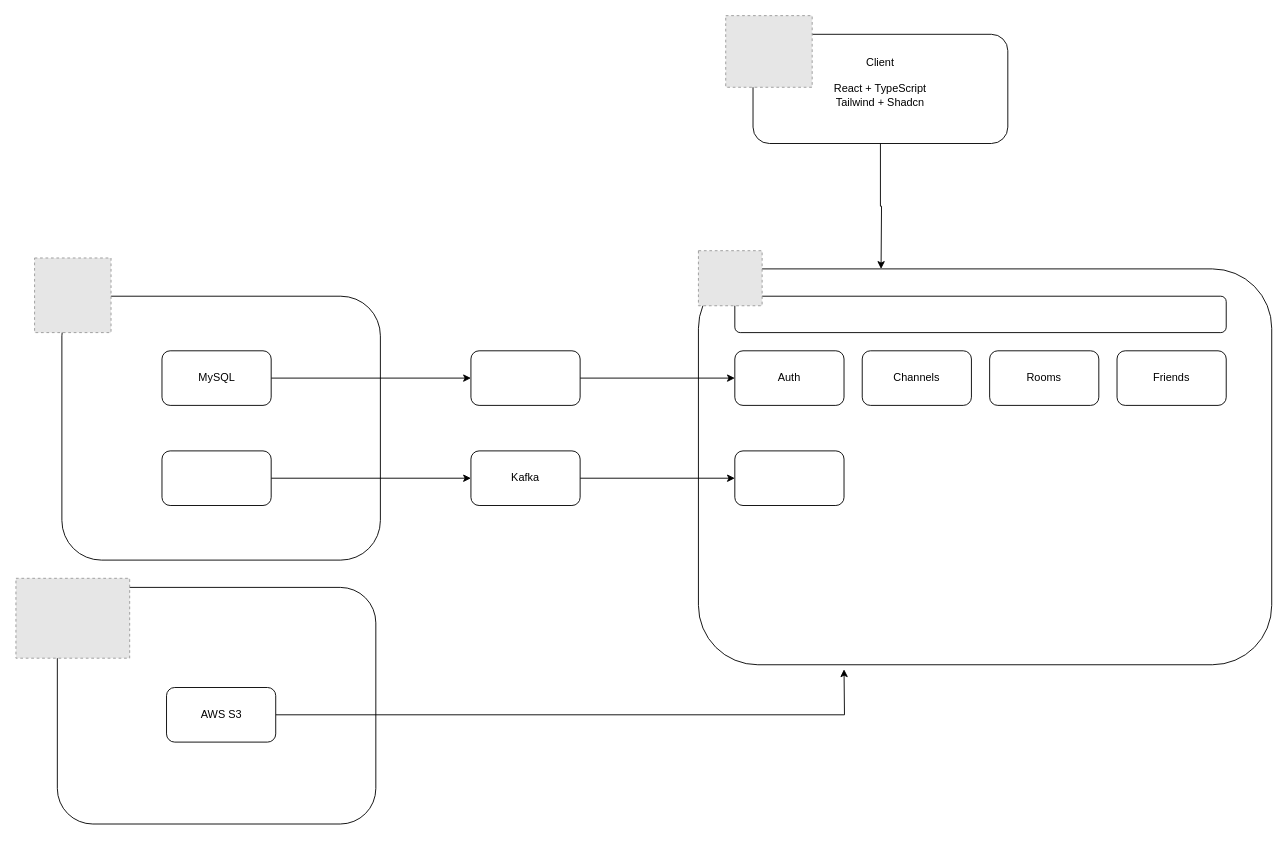
The diagram is 1288 pixels wide and 841 high, and some of its shapes have lost their labels. Grey dashed boxes stand in for pictures. Each missing label, with the box of its shape:
Messages: (734, 450, 844, 506)
Redis: (470, 350, 580, 405)
ScyllaDB: (161, 450, 271, 506)
Server Node + Express: (734, 295, 1226, 333)
